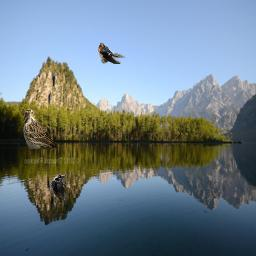Sparrow: (23, 109, 57, 149)
Swallow: (98, 42, 125, 64)
Woodpecker: (49, 173, 69, 204)
